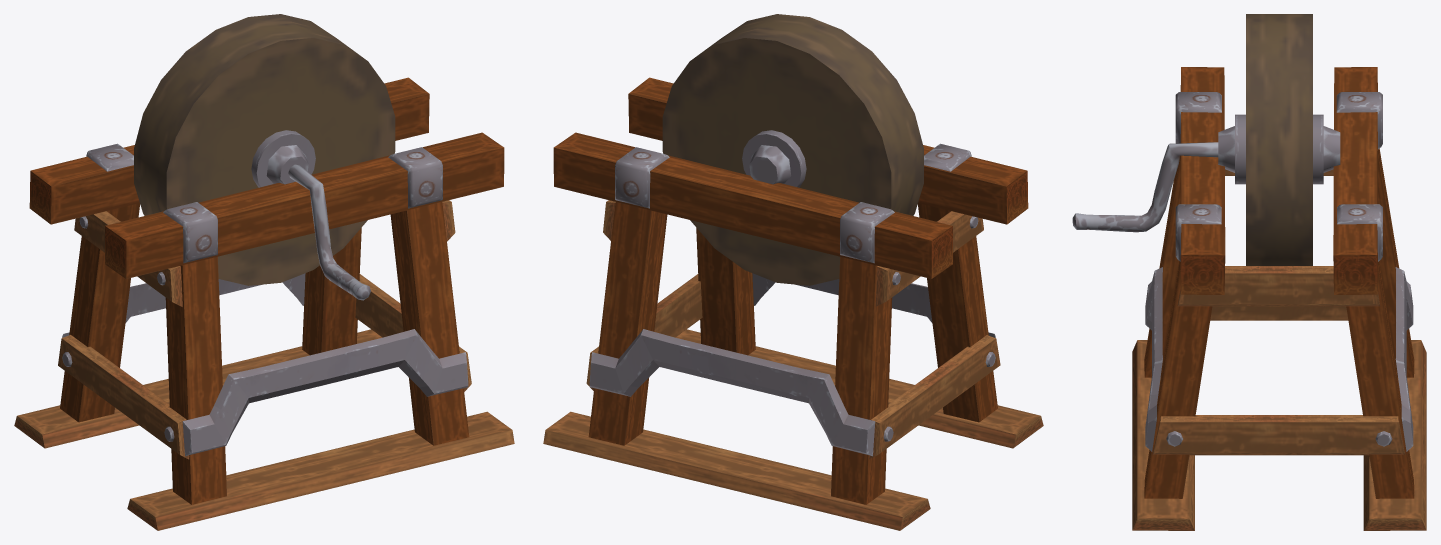
Rendered from whetstone.glb.
The picture shows the model from 3 angles, left to right: view 1: azimuth 30°, elevation 25°; view 2: azimuth 150°, elevation 25°; view 3: azimuth 270°, elevation 25°; orthographic projection. The views are drawn at different scales.
Parts seen in each view (by area): view 1: Whetstone; view 2: Whetstone; view 3: Whetstone.
Boxes of the visible parts, x1=… form: Whetstone: x1=14, y1=14, x2=514, y2=530; Whetstone: x1=543, y1=14, x2=1043, y2=530; Whetstone: x1=1072, y1=14, x2=1426, y2=530.
Bounding box in the file's own units: 1.14 × 1.17 × 0.9018.
Materials: 3 (3 with a texture image).
